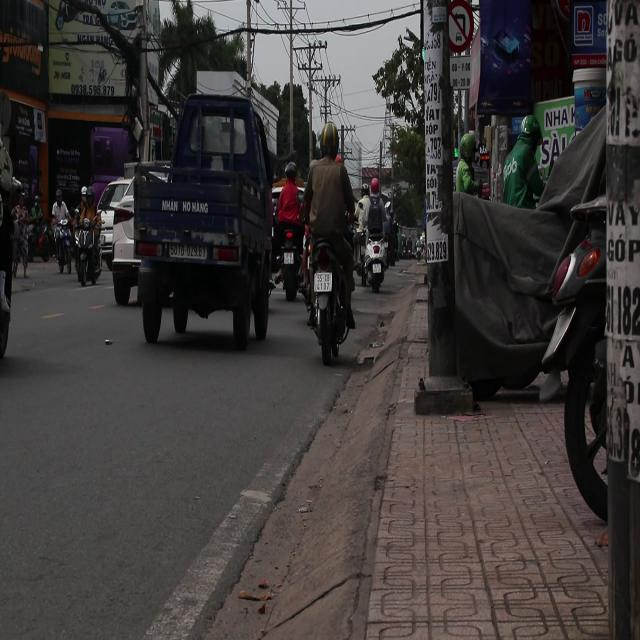bus: (50, 115, 133, 208)
car: (97, 179, 135, 258)
motorbike: (301, 232, 354, 367), (271, 220, 307, 302), (72, 216, 102, 288), (364, 244, 388, 292)
truck: (130, 80, 280, 348)
